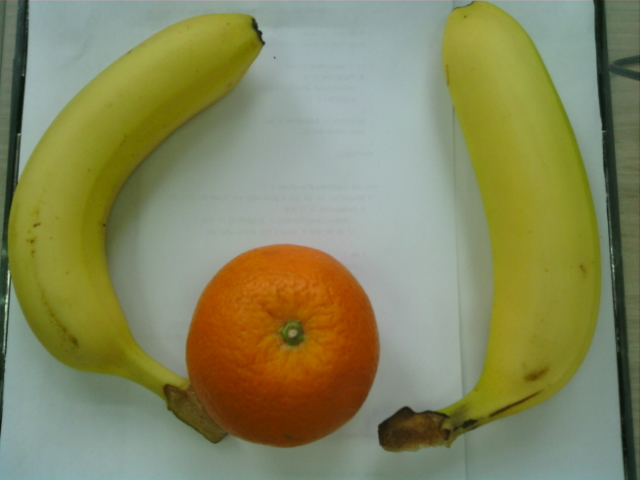normal_banana: (10, 13, 264, 374), (439, 8, 602, 441)
normal_orange: (186, 242, 379, 449)
